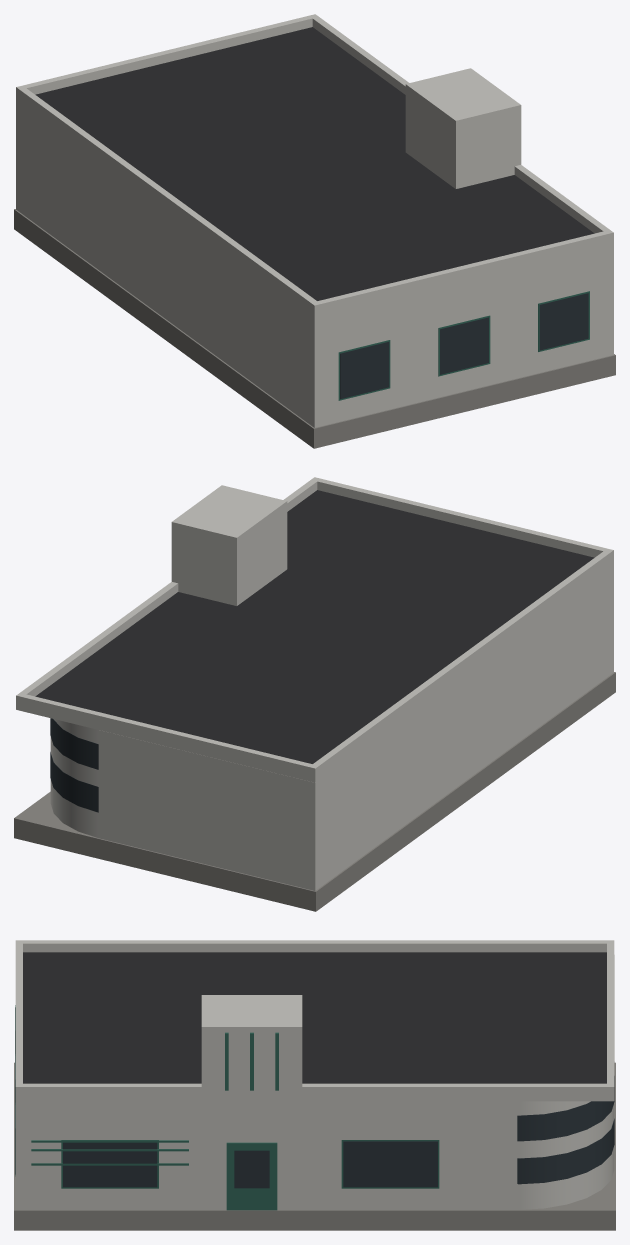
File: SM_Prop_cafe_building_19_LOD1.glb
3 renders of one model, top to bottom at view 1: azimuth 30°, elevation 25°; view 2: azimuth 150°, elevation 25°; view 3: azimuth 270°, elevation 25°, orthographic.
Visible parts, largest first — view 1: SM_Prop_cafe_building_19_LOD1; view 2: SM_Prop_cafe_building_19_LOD1; view 3: SM_Prop_cafe_building_19_LOD1.
Boxes of the visible parts, x1=… form: SM_Prop_cafe_building_19_LOD1: x1=14, y1=14, x2=615, y2=448; SM_Prop_cafe_building_19_LOD1: x1=14, y1=477, x2=615, y2=911; SM_Prop_cafe_building_19_LOD1: x1=14, y1=940, x2=615, y2=1230.
Bounding box in the file's own units: 11.11 × 7.1 × 19.1.
